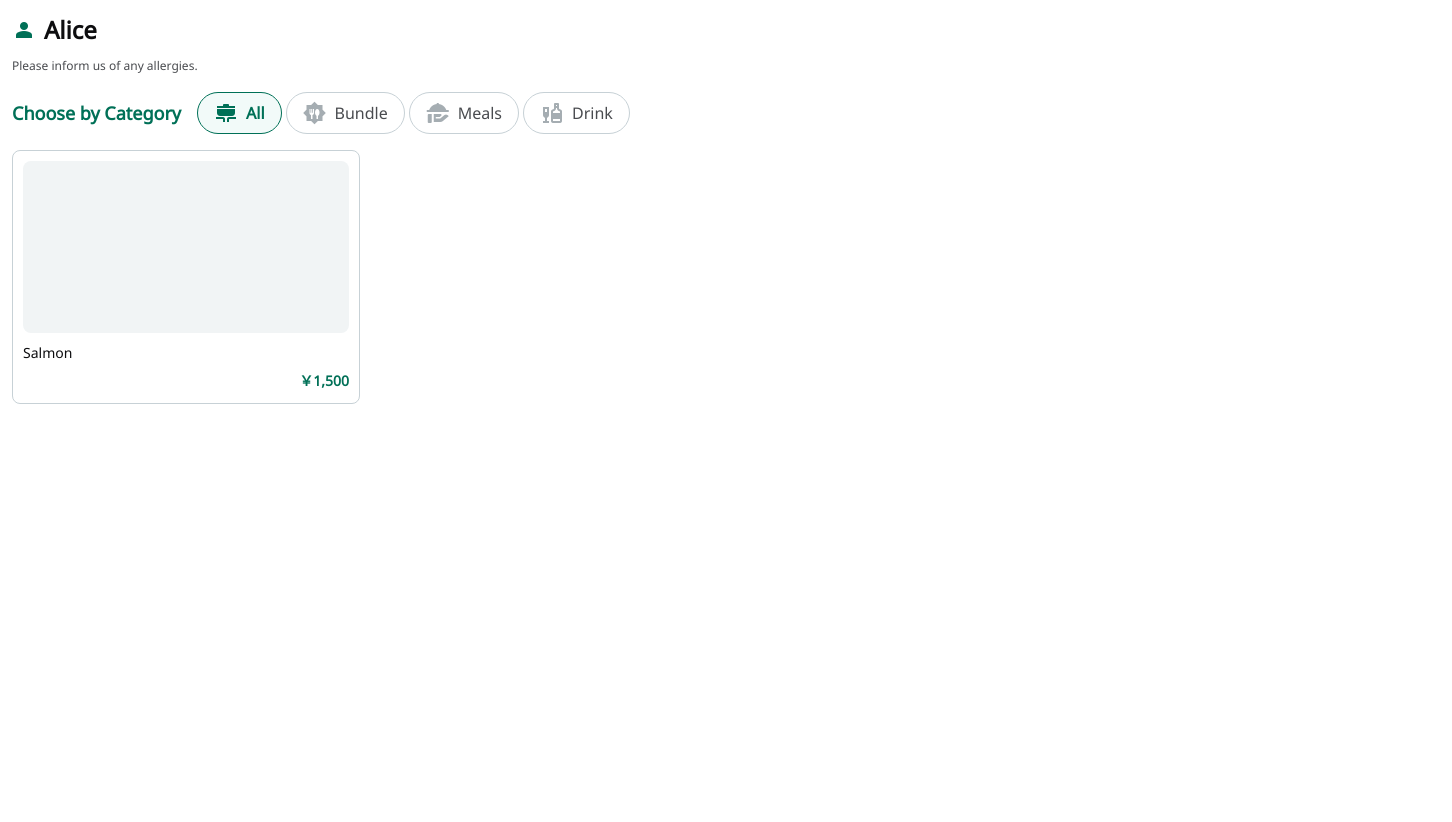
Test: MealSelectionFlow › meal selection → detail view transition › switches to detail view when a meal card is clicked (openOnCardClick mode)
Note: Click the card (rendered as button in openOnCardClick mode)
Click the button "Salmon ￥1,500".
click(186, 277)  # box x1=12 y1=150 x2=360 y2=404
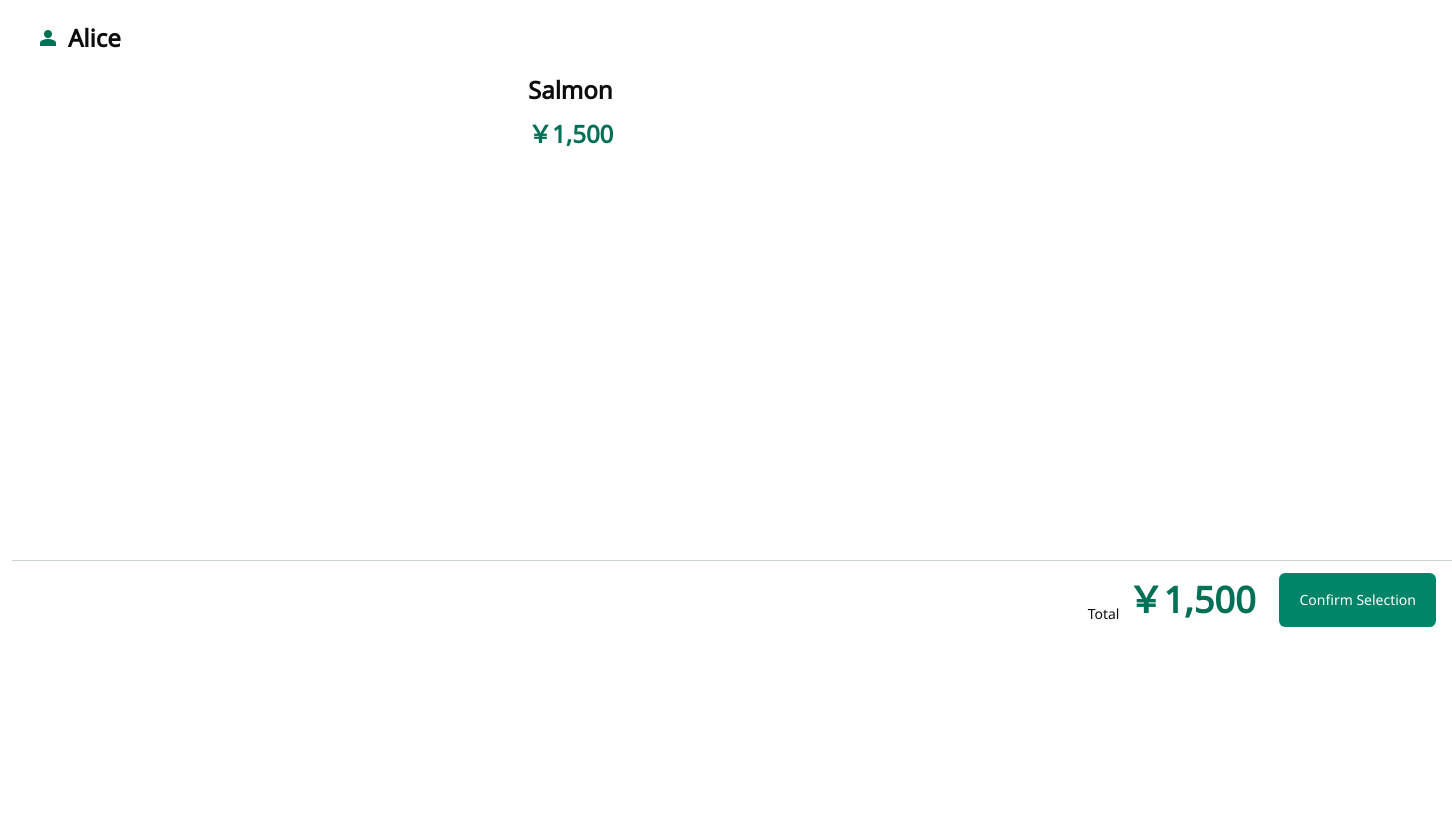
Result: the button "Confirm Selection" is shown at x1=1280 y1=573 x2=1436 y2=627
